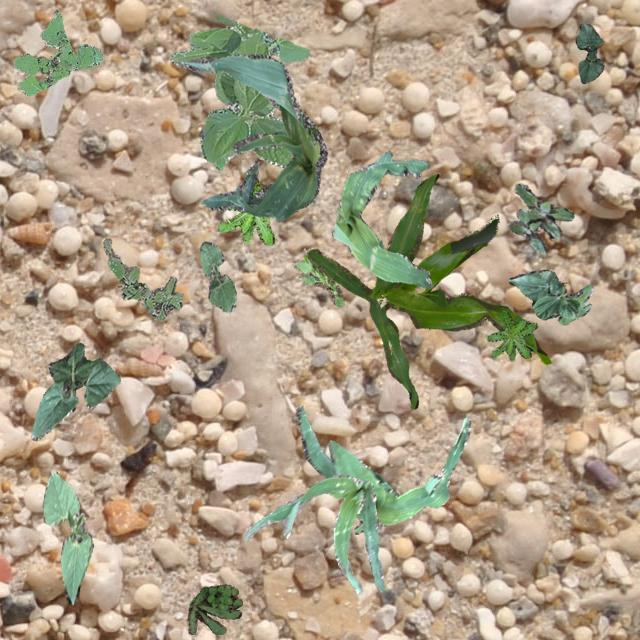crop: (306, 172, 550, 408), (183, 54, 327, 220), (296, 405, 470, 533), (170, 12, 308, 168), (242, 472, 384, 592), (330, 150, 430, 286), (30, 342, 120, 439), (42, 469, 92, 604), (508, 268, 592, 324), (198, 240, 236, 312), (574, 22, 602, 82)
weed: (12, 9, 102, 94), (102, 238, 182, 320), (507, 182, 572, 252), (216, 178, 274, 244), (186, 582, 242, 634), (292, 248, 342, 306), (486, 310, 536, 360)
